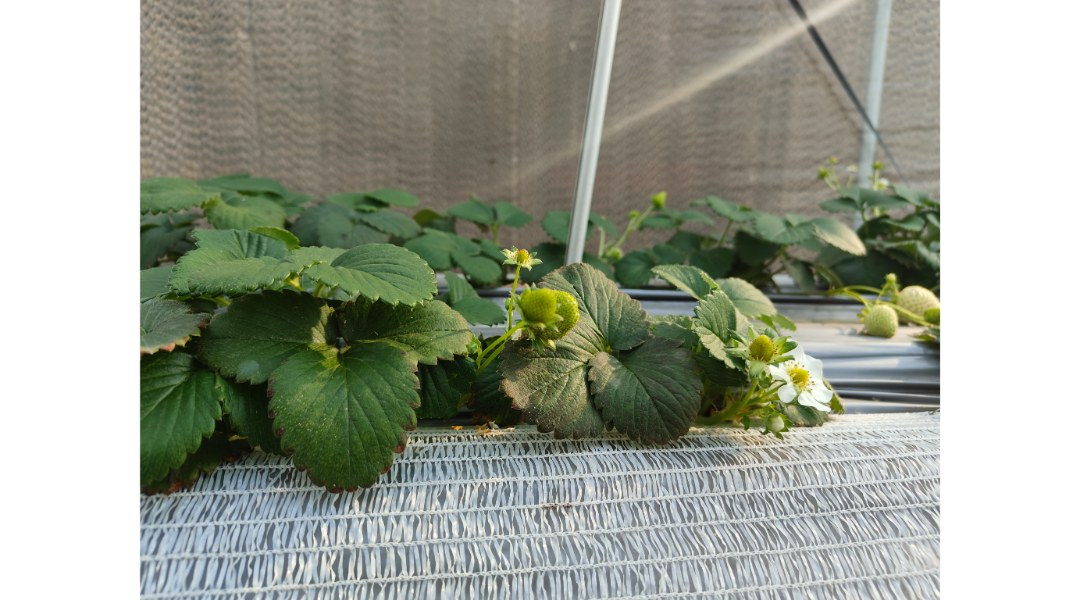berry: (731, 329, 801, 370), (531, 286, 575, 344), (514, 282, 557, 330)
flower: (759, 328, 845, 419), (494, 238, 542, 274)
